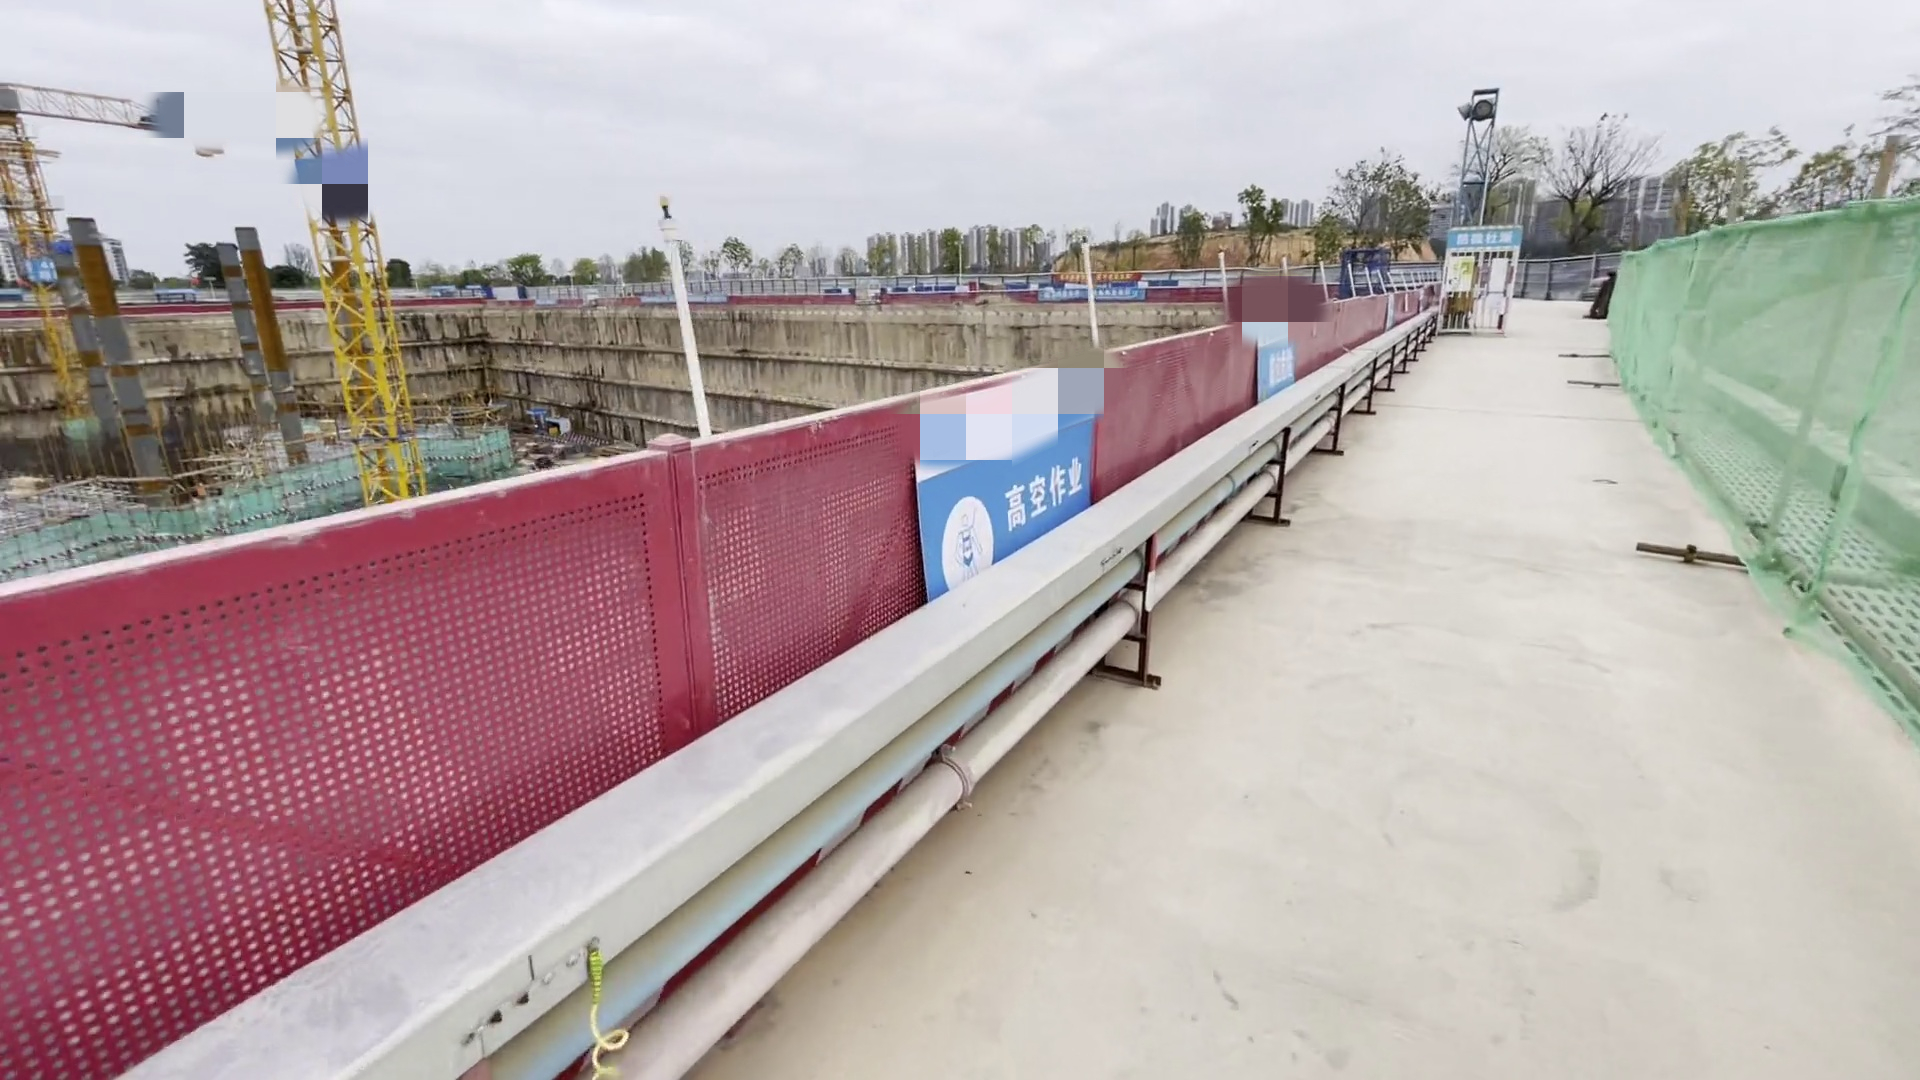fence: (1, 284, 1432, 1080)
slogan: (1000, 444, 1104, 547), (1030, 286, 1147, 309), (1443, 219, 1515, 251), (1060, 262, 1149, 284)
